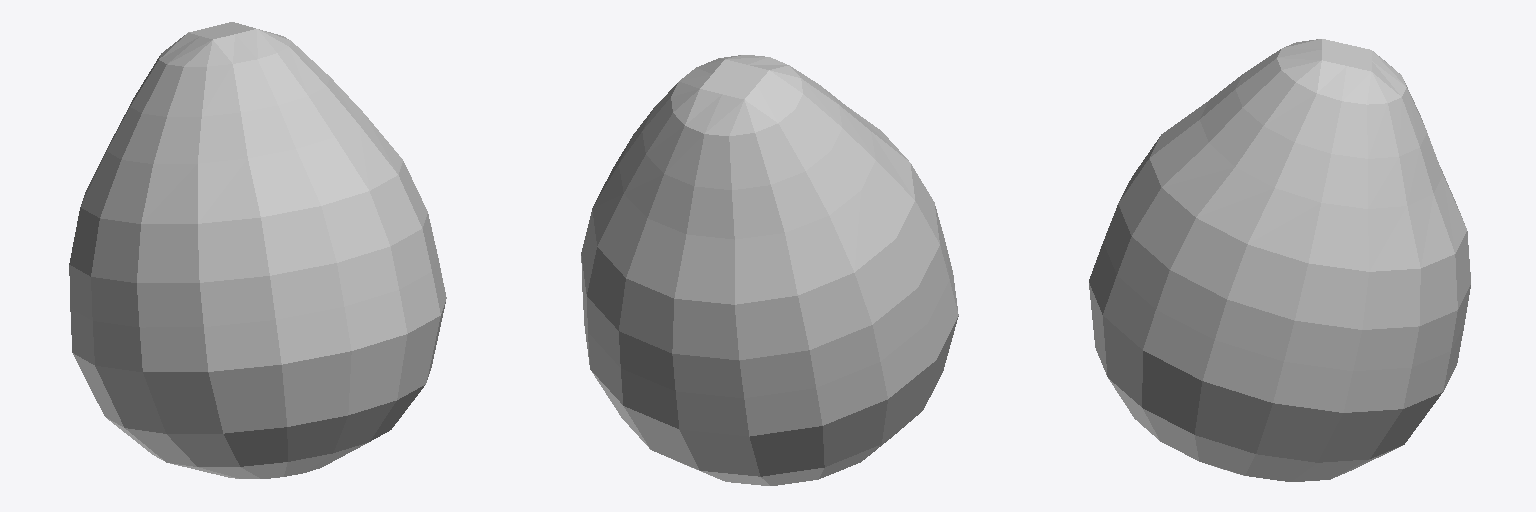
Rendered from Hand_Grip_L.obj.
3 views of the same model, side by side, from view 1: azimuth 30°, elevation 25°; view 2: azimuth 150°, elevation 25°; view 3: azimuth 270°, elevation 25° (orthographic).
Visible parts, largest first — view 1: ??.2; view 2: ??.2; view 3: ??.2.
Part boxes in pixels (left/top/right/bottom): ??.2: left=69, top=22, right=446, bottom=478; ??.2: left=581, top=55, right=958, bottom=485; ??.2: left=1089, top=39, right=1470, bottom=481.
Size of the model in its own units: 0.3543 by 0.4251 by 0.357.